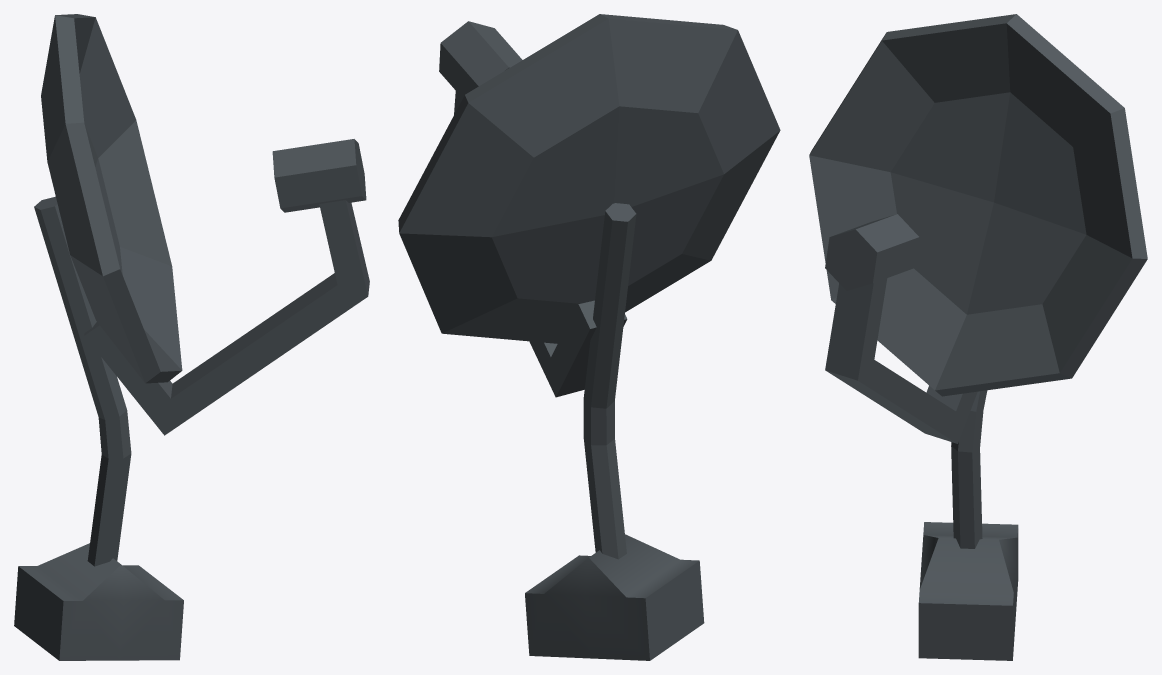
The model's file is SM_Prop_Trailer_Dish_01.obj.
The picture shows the model from 3 angles, left to right: view 1: azimuth 30°, elevation 25°; view 2: azimuth 150°, elevation 25°; view 3: azimuth 270°, elevation 25°; orthographic projection. The views are drawn at different scales.
Visible parts, largest first — view 1: SM_Prop_Trailer_Dish_01_0; view 2: SM_Prop_Trailer_Dish_01_0; view 3: SM_Prop_Trailer_Dish_01_0.
Part boxes in pixels (x1,y1,x2,y2): SM_Prop_Trailer_Dish_01_0: [14, 14, 369, 660]; SM_Prop_Trailer_Dish_01_0: [398, 14, 780, 660]; SM_Prop_Trailer_Dish_01_0: [809, 14, 1147, 660].
Size of the model in its own units: 0.5692 by 1.16 by 0.5851.
1 material, 1 textured.
